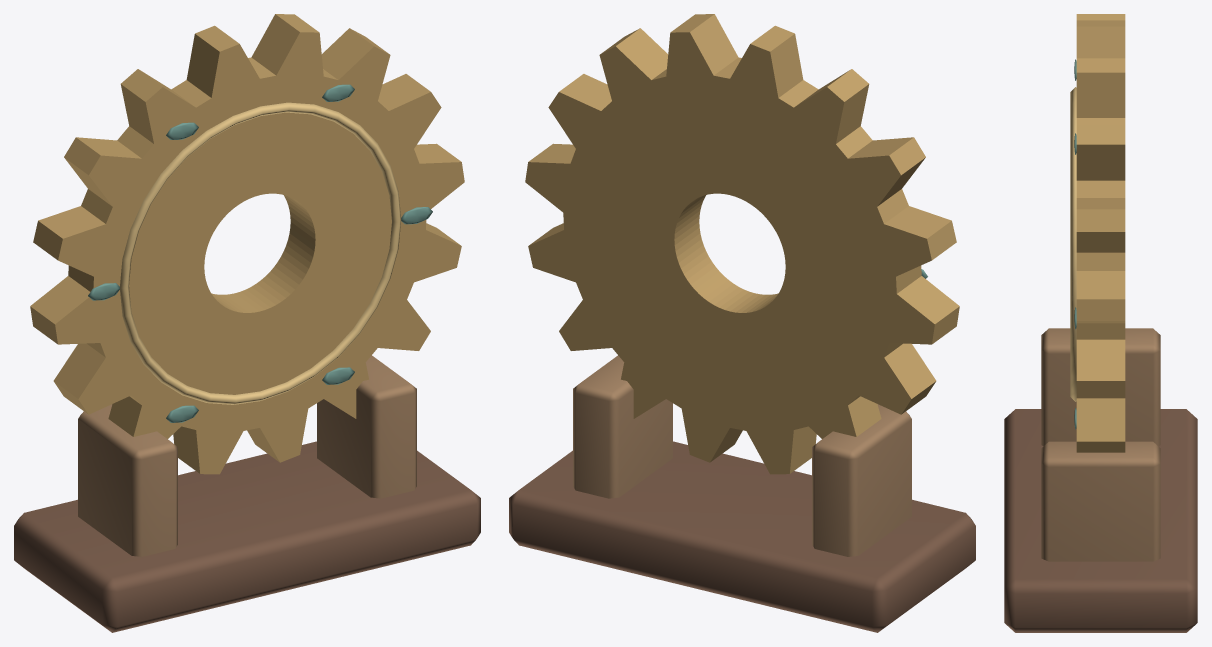
The model's file is cog_wheel.glb.
The picture shows the model from 3 angles, left to right: view 1: azimuth 30°, elevation 25°; view 2: azimuth 150°, elevation 25°; view 3: azimuth 270°, elevation 25°; orthographic projection. The views are drawn at different scales.
Visible parts, largest first — view 1: Worn tower clock cog, Display foot, Cog cradle, Cog cradle.001, Engraved concentric ring; view 2: Worn tower clock cog, Display foot, Cog cradle, Cog cradle.001; view 3: Display foot, Worn tower clock cog, Cog cradle.001, Cog cradle, Engraved concentric ring.
Part boxes in pixels (x1,y1,x2,y2): Worn tower clock cog: (30, 14, 464, 474); Display foot: (14, 441, 480, 632); Cog cradle: (78, 404, 177, 556); Cog cradle.001: (317, 355, 416, 498); Engraved concentric ring: (120, 102, 401, 404); Worn tower clock cog: (525, 14, 959, 474); Display foot: (509, 441, 975, 632); Cog cradle: (812, 404, 911, 556); Cog cradle.001: (573, 355, 672, 498); Display foot: (1004, 409, 1197, 632); Worn tower clock cog: (1076, 14, 1125, 452); Cog cradle.001: (1041, 441, 1160, 561); Cog cradle: (1041, 328, 1160, 446); Engraved concentric ring: (1070, 87, 1076, 401).
Bounding box in the file's own units: 0.6 × 0.7376 × 0.2528.
